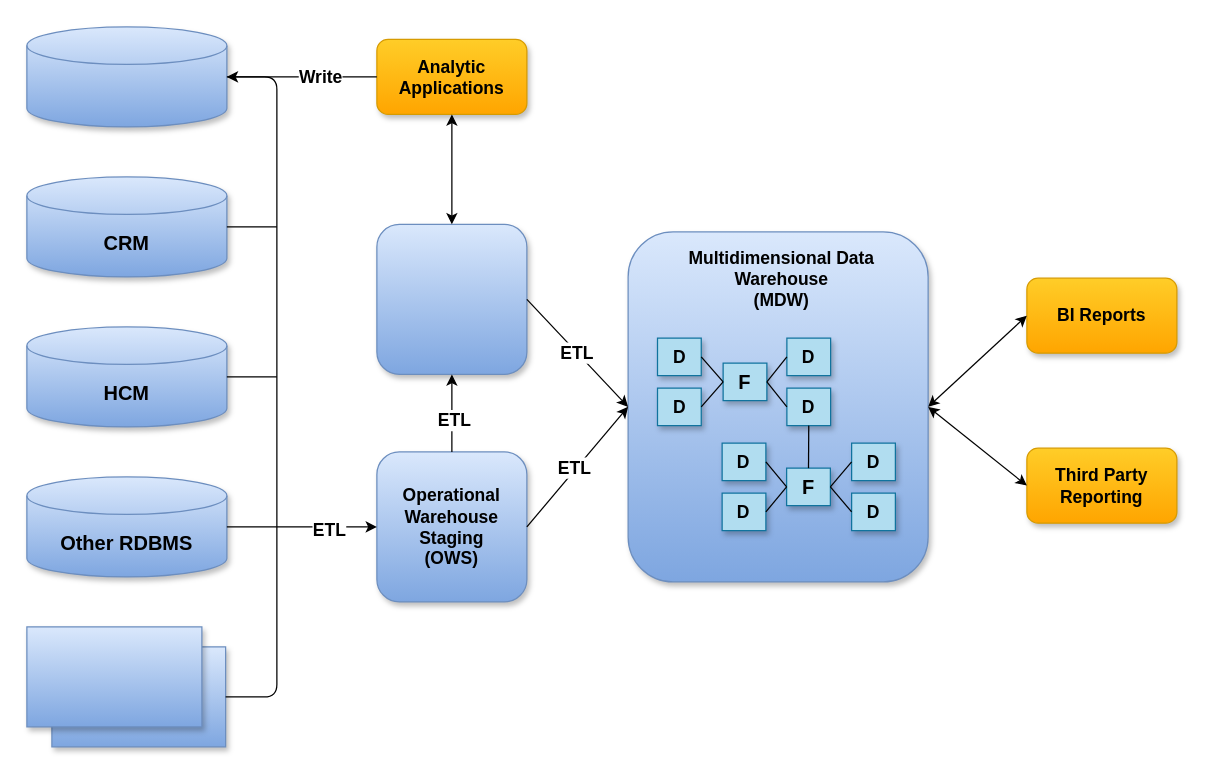
Some shapes in this 1206 by 778 pixel diagram are drawn without their labels. The shapes that lost their labels are listed below. From the top down, each one's centre as x and y in pixels, then its label:
the point at 127,78: FSCM
the point at 452,300: Operational Warehouse Enriched (OWE)
the point at 115,678: Flat Files
